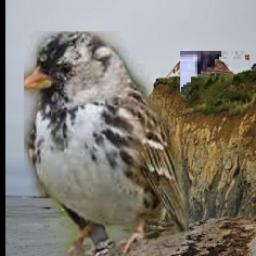Crow: (179, 52, 252, 256)
Sparrow: (24, 32, 189, 256)
